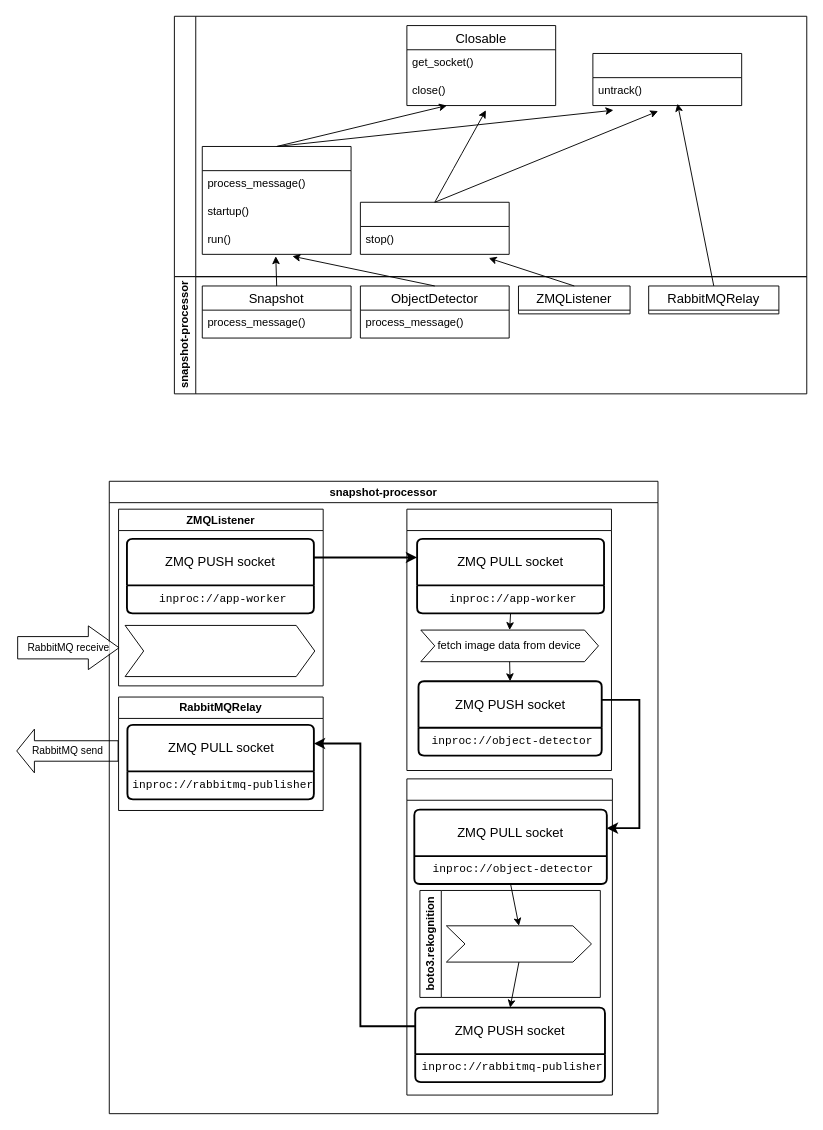
Some shapes in this 823 by 1130 pixel diagram are drawn without their labels. The shapes that lost their labels are listed below. From the top down, each one's box as (x1, y1, x2, y2) in pixels, then its label:
(592, 53, 742, 106): AppThread
(173, 15, 807, 277): pylib
(201, 146, 351, 254): ZMQRelay
(359, 201, 509, 254): MQConnection
(124, 624, 315, 677): Receive on MQConnection forward to ZMQ inproc socket
(406, 508, 611, 771): Snapshot(ZMQRelay)
(406, 778, 612, 1095): ObjectDetector(ZMQRelay)
(445, 925, 591, 962): DetectLabels
